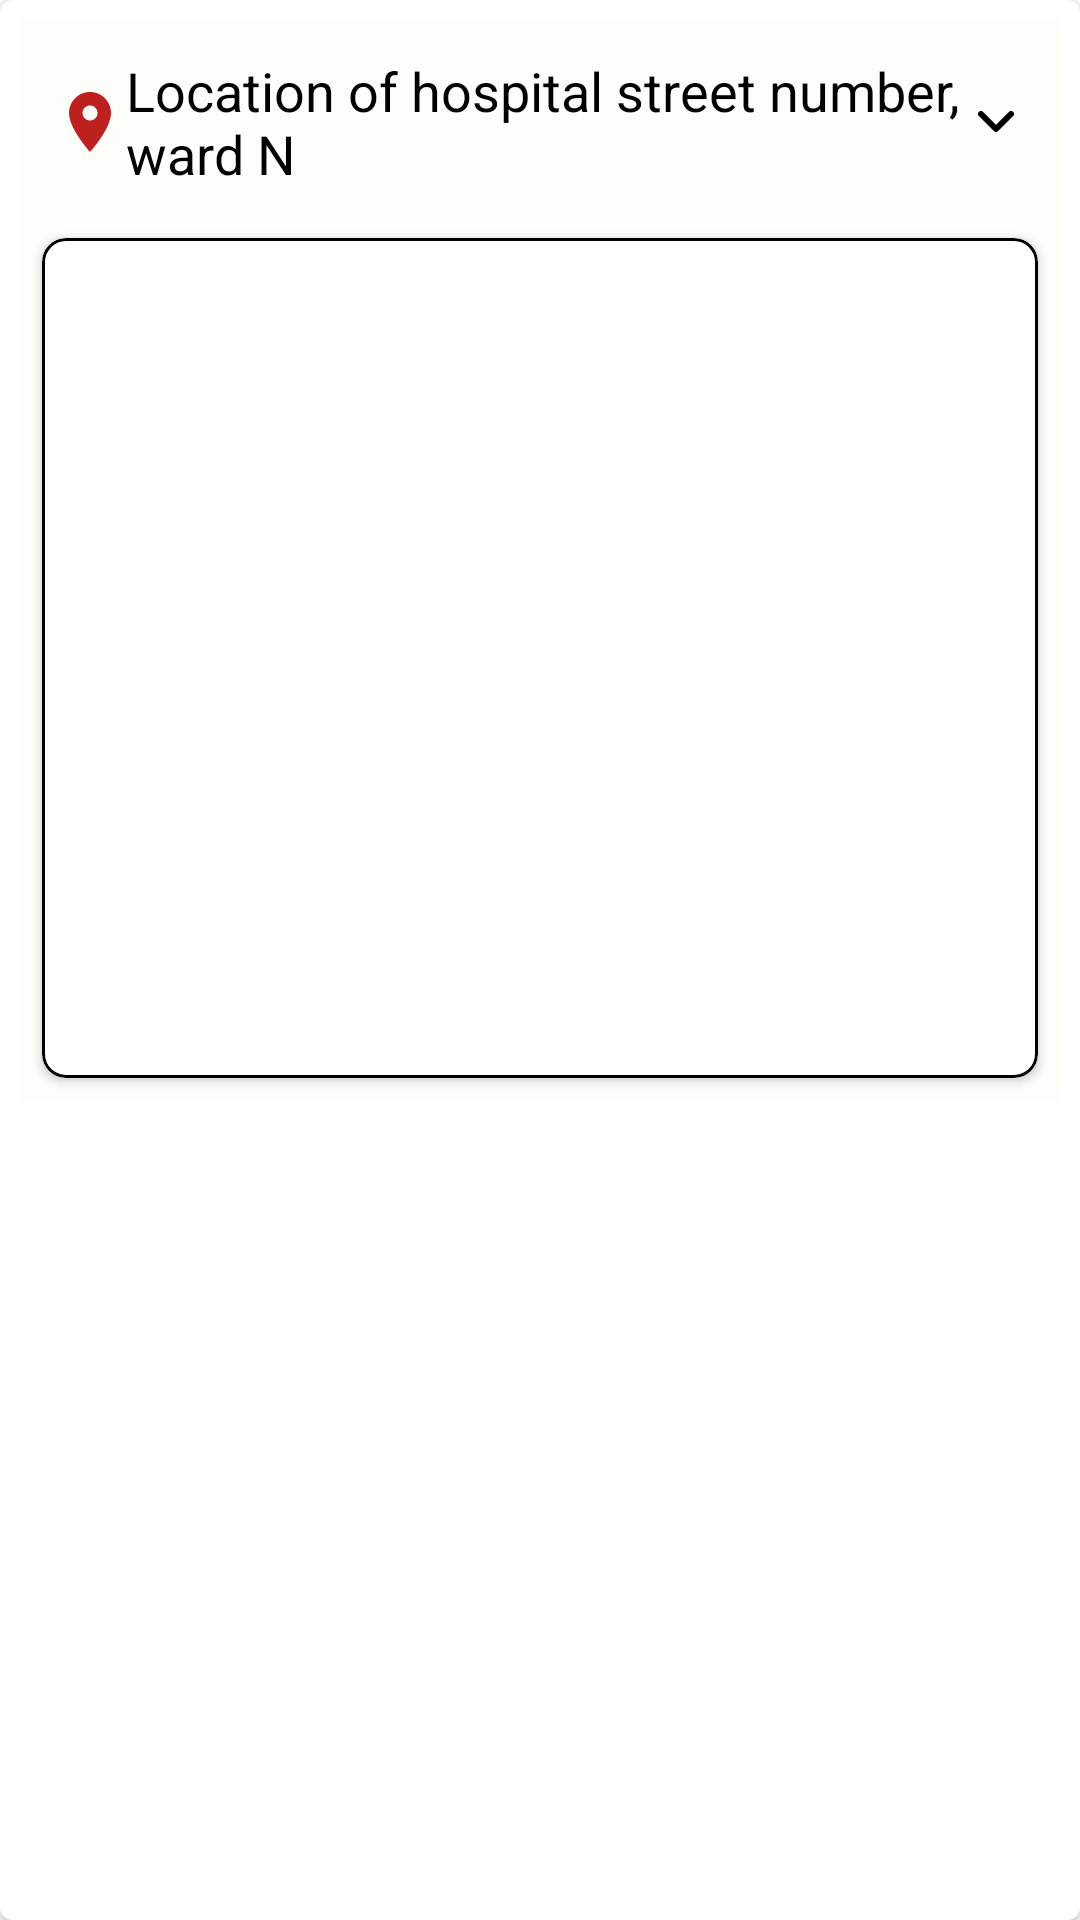

Icon bounding boxes for this 1080 x 1920 phone screenshot, format [x1, y1, x2, y2]:
arrowdown: [978, 111, 1014, 132]
